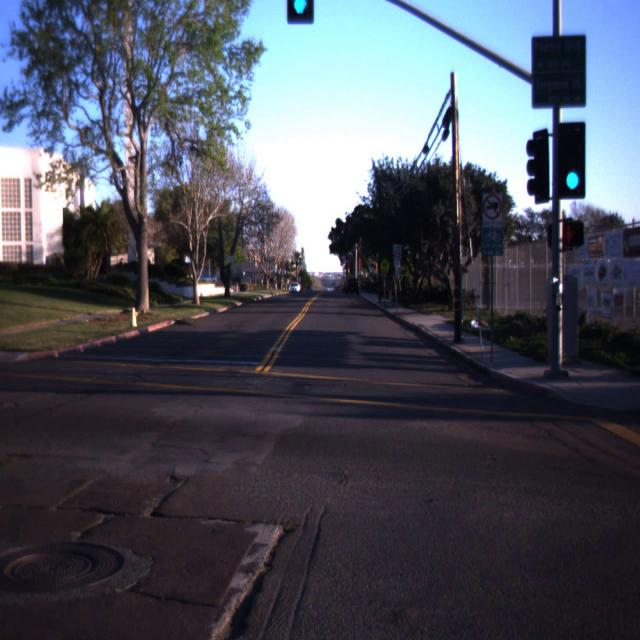yesil: (557, 122, 585, 200)
